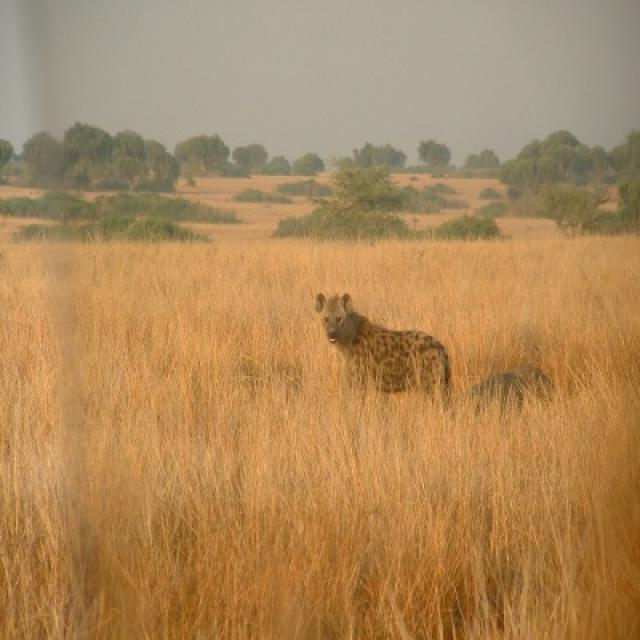hyena: (315, 285, 459, 410)
